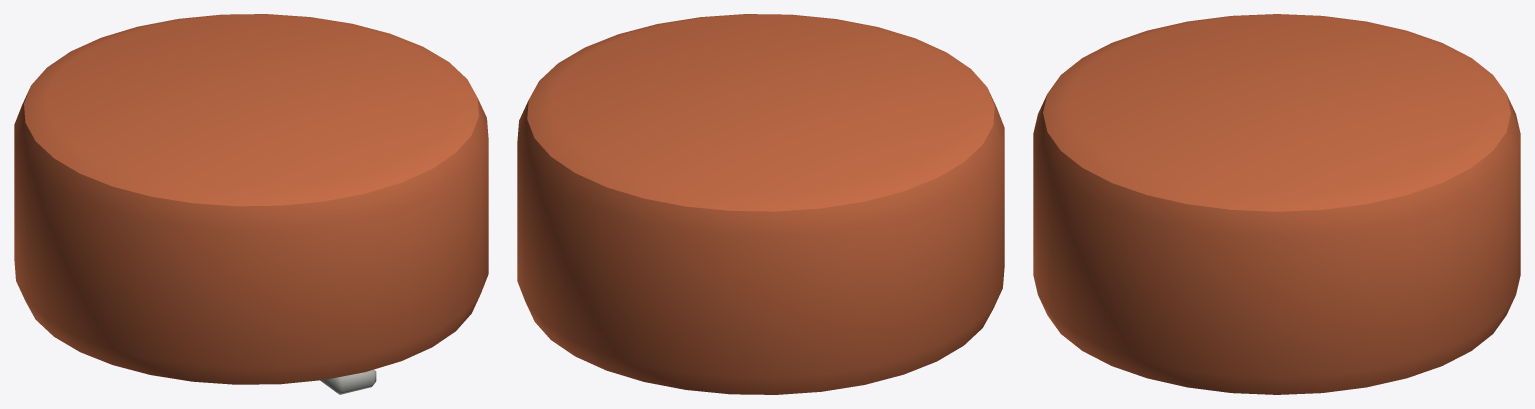
Rendered from wire_feeder_wire_speed_knob.glb.
The picture shows the model from 3 angles, left to right: view 1: azimuth 30°, elevation 25°; view 2: azimuth 150°, elevation 25°; view 3: azimuth 270°, elevation 25°; orthographic projection. The views are drawn at different scales.
Visible parts, largest first — view 1: wire_feeder_wire_speed_knob; view 2: wire_feeder_wire_speed_knob; view 3: wire_feeder_wire_speed_knob.
Boxes of the visible parts, left/top/right/bottom form: wire_feeder_wire_speed_knob: left=14, top=14, right=488, bottom=394; wire_feeder_wire_speed_knob: left=517, top=14, right=1004, bottom=394; wire_feeder_wire_speed_knob: left=1033, top=14, right=1520, bottom=394.
Size of the model in its own units: 0.044 by 0.0218 by 0.044.
